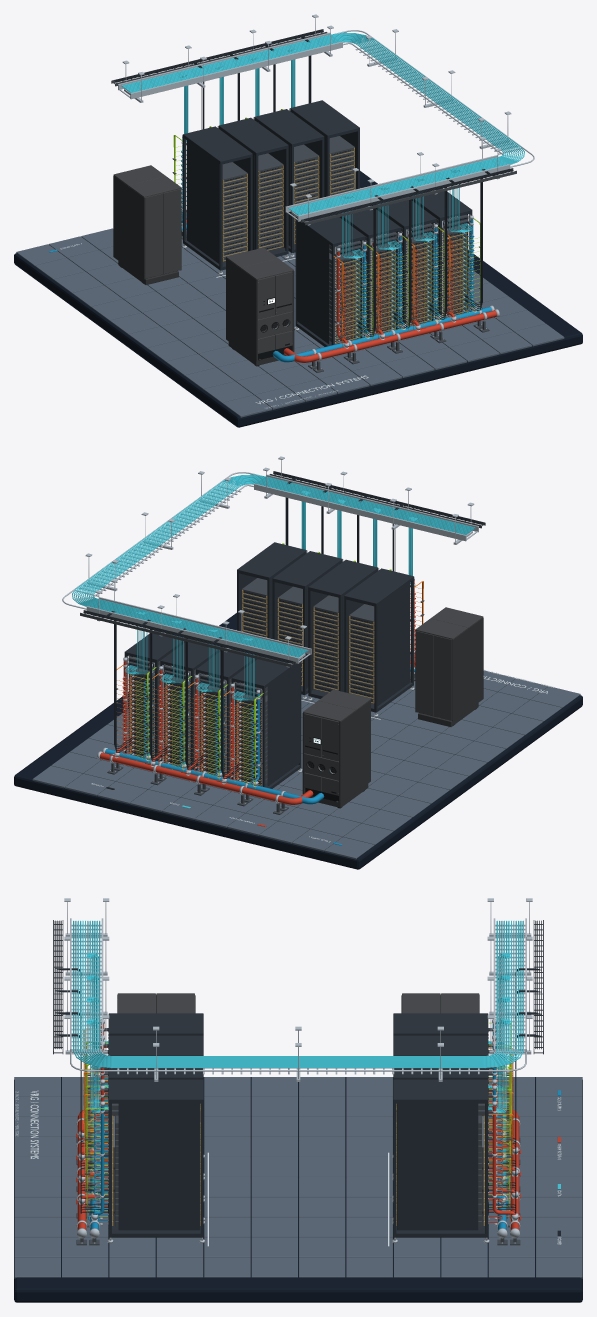
Rendered from VRG_Connections.glb.
The picture shows the model from 3 angles, top to bottom: view 1: azimuth 30°, elevation 25°; view 2: azimuth 150°, elevation 25°; view 3: azimuth 270°, elevation 25°; orthographic projection. The views are drawn at different scales.
Visible parts, largest first — view 1: STAGE_Floor_Tiles_Mesh, STAGE_Raised_Platform_Mesh, B_CDU_Cabinet_Mesh, A_CDU_Cabinet_Mesh, B01_Rack_Frame_Mesh, A01_Rack_Frame_Mesh, B02_Rack_Frame_Mesh, B_Overhead_Ladder_Tray_Mesh, B03_Rack_Frame_Mesh, B02_18_Compute_Trays_Mesh, B04_Rack_Frame_Mesh, B01_18_Compute_Trays_Mesh (+32 smaller); view 2: STAGE_Floor_Tiles_Mesh, STAGE_Raised_Platform_Mesh, A_CDU_Cabinet_Mesh, B_CDU_Cabinet_Mesh, A01_Rack_Frame_Mesh, B01_Rack_Frame_Mesh, A02_Rack_Frame_Mesh, A_Overhead_Ladder_Tray_Mesh, A03_Rack_Frame_Mesh, A02_18_Compute_Trays_Mesh, A04_Rack_Frame_Mesh, A01_18_Compute_Trays_Mesh (+32 smaller); view 3: STAGE_Floor_Tiles_Mesh, STAGE_Raised_Platform_Mesh, A04_Rack_Frame_Mesh, B04_Rack_Frame_Mesh, A_Overhead_Ladder_Tray_Mesh, B_Overhead_Ladder_Tray_Mesh, A01_Rack_Frame_Mesh, B01_Rack_Frame_Mesh, A02_Rack_Frame_Mesh, B02_Rack_Frame_Mesh, A_CDU_Cabinet_Mesh, B_CDU_Cabinet_Mesh (+25 smaller).
Part boxes in pixels (x1,y1,x2,y2): STAGE_Floor_Tiles_Mesh: (16, 188, 564, 417); STAGE_Raised_Platform_Mesh: (14, 171, 582, 427); B_CDU_Cabinet_Mesh: (113, 165, 181, 284); A_CDU_Cabinet_Mesh: (226, 247, 294, 366); B01_Rack_Frame_Mesh: (183, 126, 252, 270); A01_Rack_Frame_Mesh: (295, 214, 365, 346); B02_Rack_Frame_Mesh: (218, 117, 288, 256); B_Overhead_Ladder_Tray_Mesh: (118, 14, 342, 102); B03_Rack_Frame_Mesh: (254, 109, 324, 253); B02_18_Compute_Trays_Mesh: (258, 153, 283, 249); B04_Rack_Frame_Mesh: (290, 100, 359, 196); B01_18_Compute_Trays_Mesh: (222, 162, 247, 260); STAGE_Floor_Tiles_Mesh: (32, 630, 580, 859); STAGE_Raised_Platform_Mesh: (14, 613, 582, 869); A_CDU_Cabinet_Mesh: (415, 607, 483, 726); B_CDU_Cabinet_Mesh: (302, 689, 370, 808); A01_Rack_Frame_Mesh: (344, 568, 413, 712); B01_Rack_Frame_Mesh: (231, 656, 301, 788); A02_Rack_Frame_Mesh: (308, 559, 378, 698); A_Overhead_Ladder_Tray_Mesh: (254, 456, 478, 544); A03_Rack_Frame_Mesh: (272, 551, 342, 695); A02_18_Compute_Trays_Mesh: (313, 595, 338, 691); A04_Rack_Frame_Mesh: (237, 542, 306, 638); A01_18_Compute_Trays_Mesh: (349, 604, 374, 702); STAGE_Floor_Tiles_Mesh: (14, 1077, 582, 1278); STAGE_Raised_Platform_Mesh: (14, 1077, 582, 1302); A04_Rack_Frame_Mesh: (108, 1079, 203, 1237); B04_Rack_Frame_Mesh: (393, 1079, 488, 1237); A_Overhead_Ladder_Tray_Mesh: (64, 898, 109, 1054); B_Overhead_Ladder_Tray_Mesh: (487, 898, 532, 1054); A01_Rack_Frame_Mesh: (108, 1013, 203, 1169); B01_Rack_Frame_Mesh: (393, 1013, 488, 1169); A02_Rack_Frame_Mesh: (108, 1035, 203, 1191); B02_Rack_Frame_Mesh: (393, 1035, 488, 1191); A_CDU_Cabinet_Mesh: (117, 993, 195, 1013); B_CDU_Cabinet_Mesh: (401, 993, 479, 1013).
Size of the model in its own units: 6.4 by 3.45 by 7.2.
